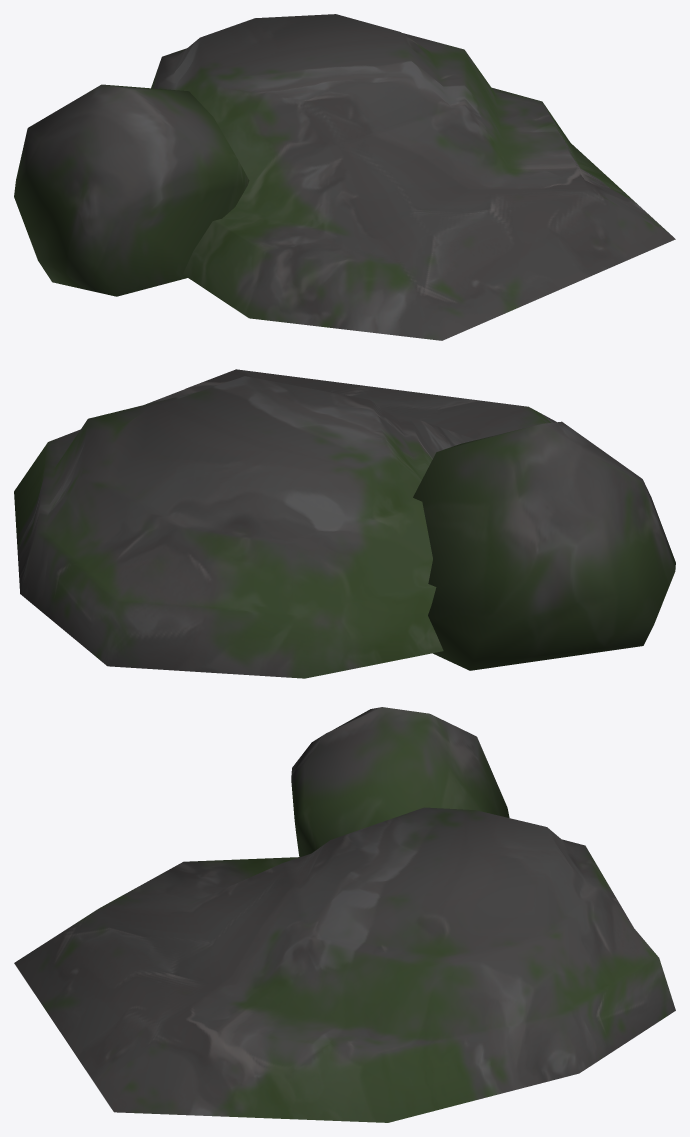
Rendered from Rock 4.fbx.
3 views of the same model, one above another, from view 1: azimuth 30°, elevation 25°; view 2: azimuth 150°, elevation 25°; view 3: azimuth 270°, elevation 25° (orthographic). The views are drawn at different scales.
Visible parts, largest first — view 1: Rock 4; view 2: Rock 4; view 3: Rock 4.
Boxes of the visible parts, box(x1,y1,x2,y2) form: Rock 4: box(14, 14, 675, 340); Rock 4: box(14, 369, 675, 678); Rock 4: box(14, 707, 675, 1122).
Bounding box in the file's own units: 1565 × 478 × 1528.
